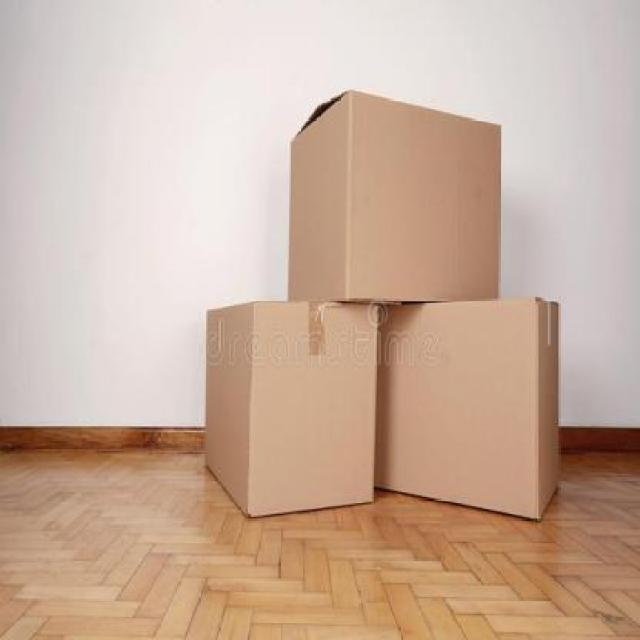box: (293, 88, 499, 305), (378, 296, 562, 521), (206, 298, 374, 518)
